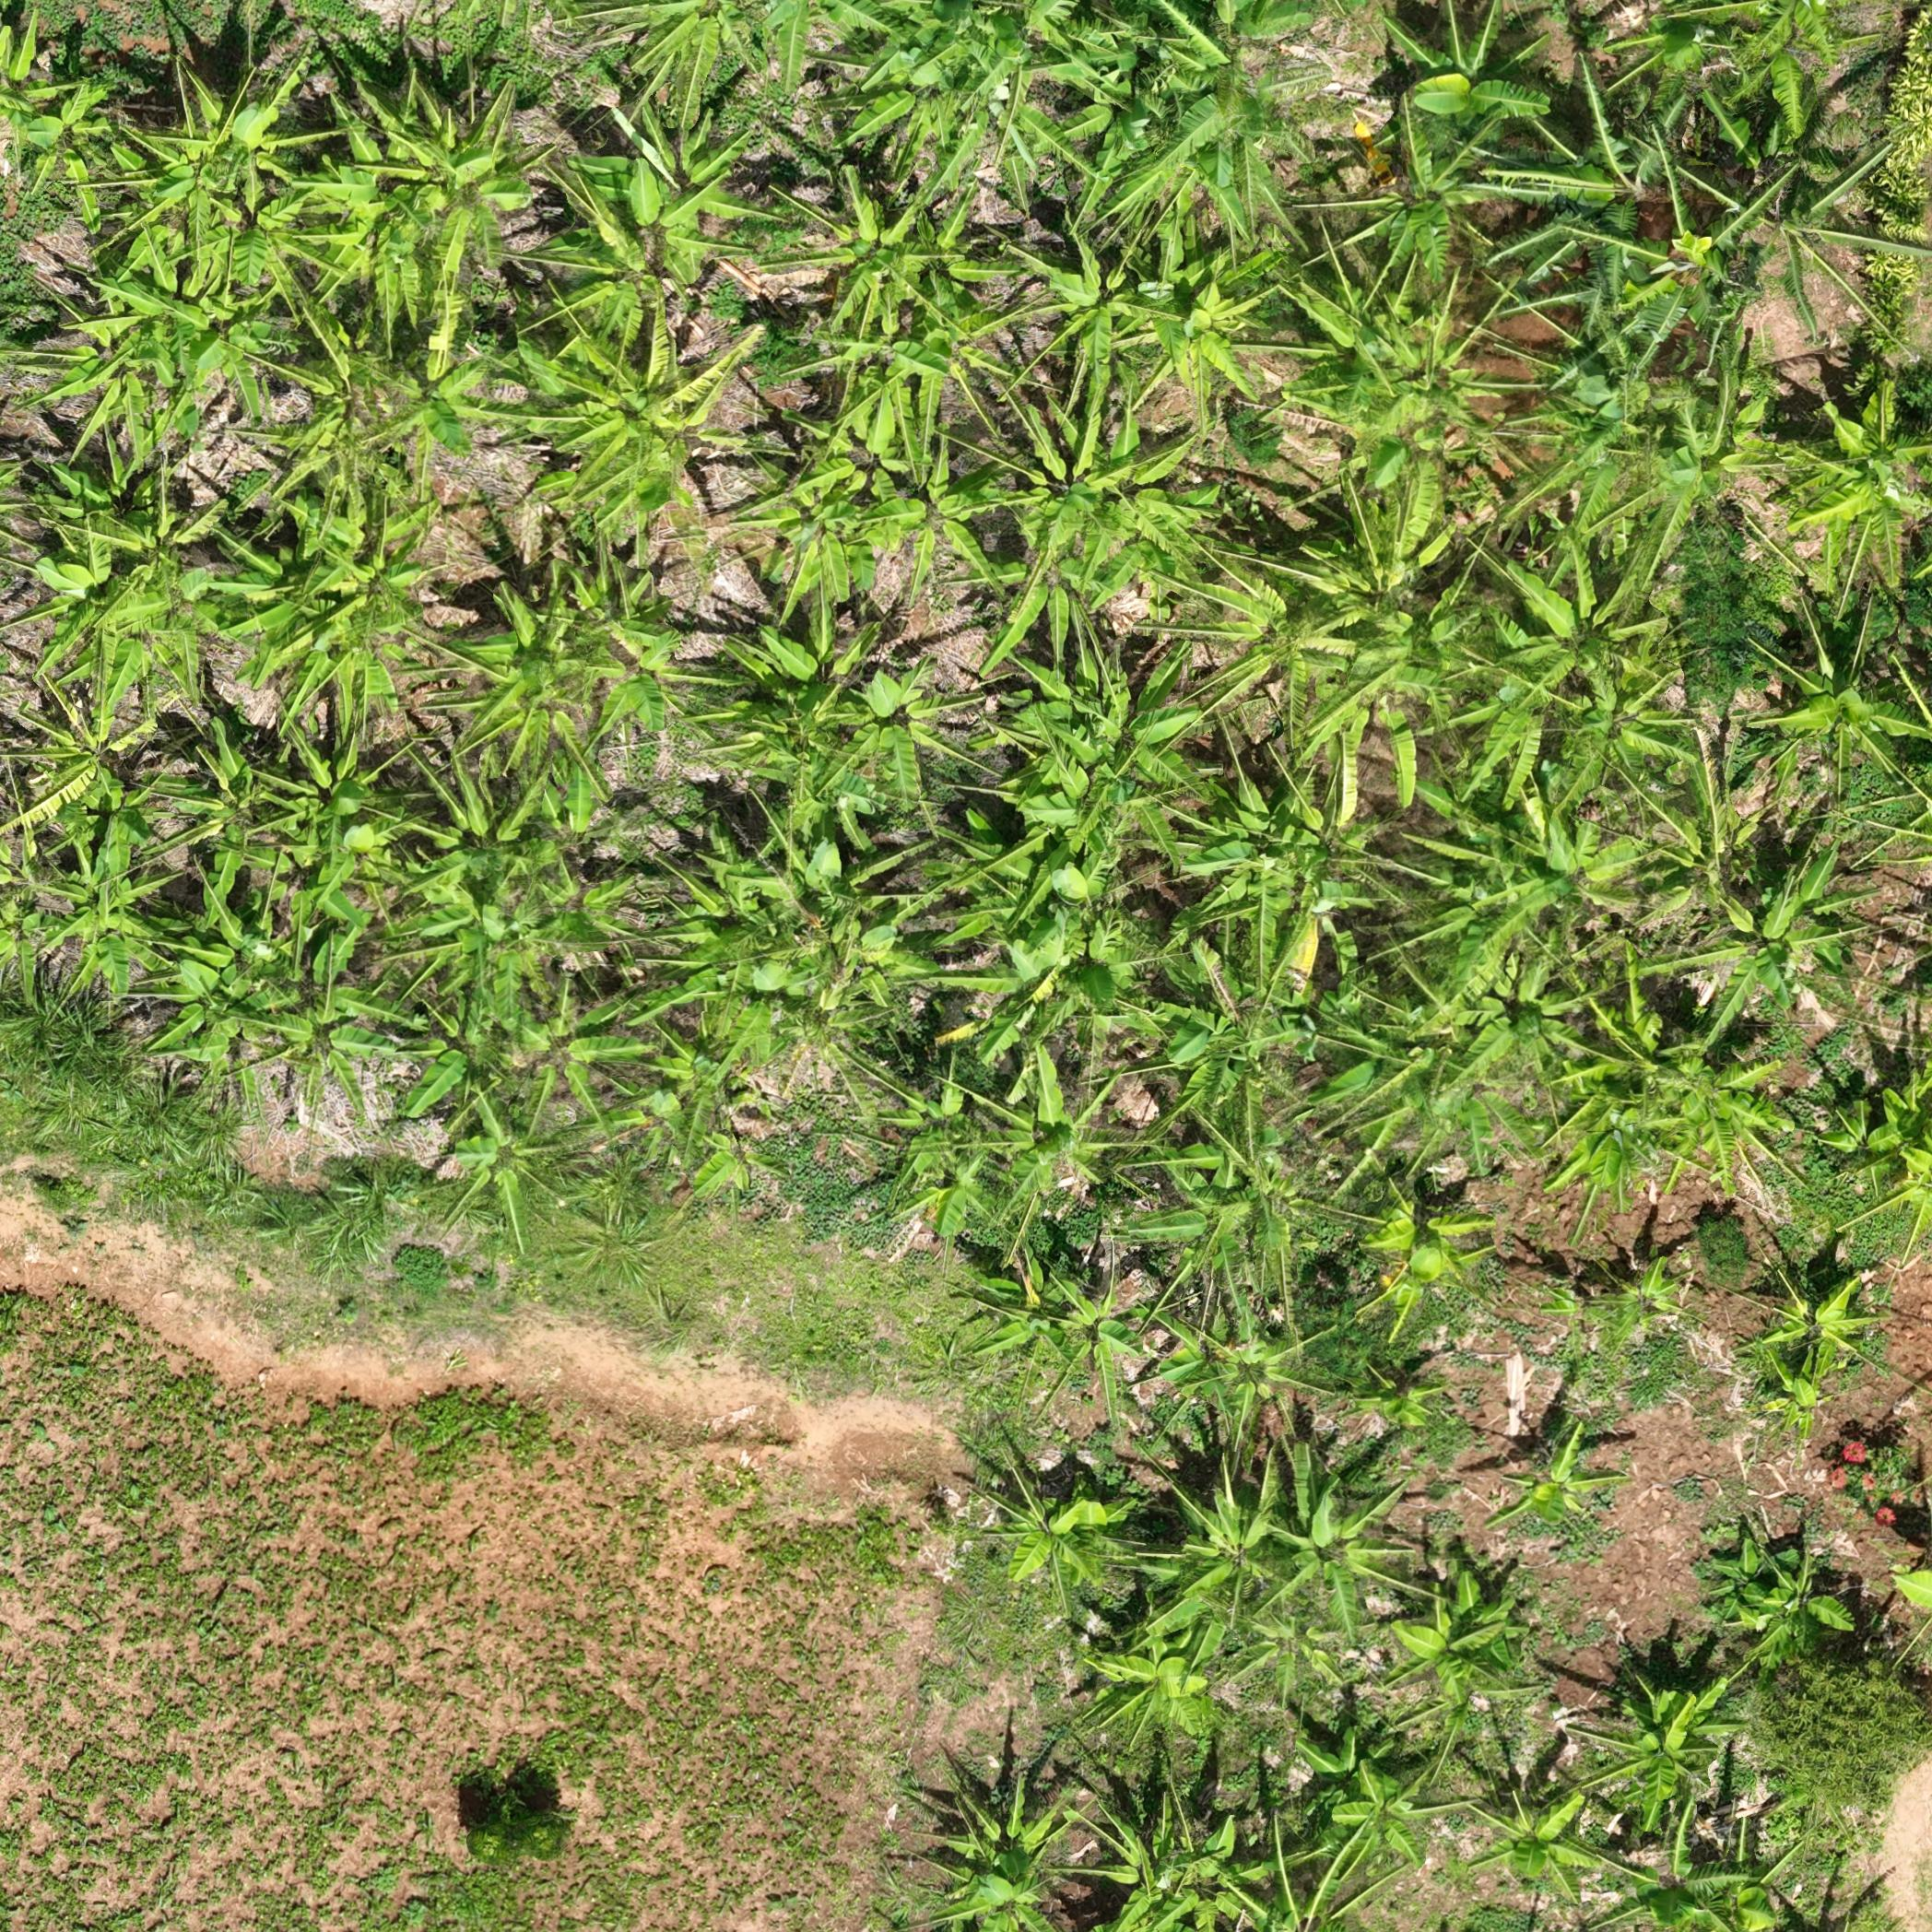Banana: (488, 318, 736, 548), (1332, 251, 1509, 511), (104, 97, 285, 333), (1035, 414, 1253, 605), (299, 85, 458, 324), (1543, 202, 1702, 432), (1134, 4, 1361, 163), (814, 9, 1067, 149), (377, 35, 541, 249), (1502, 338, 1684, 525), (763, 409, 925, 612), (579, 138, 775, 306), (1345, 971, 1530, 1148), (1040, 619, 1230, 793), (1267, 750, 1442, 932), (1127, 241, 1299, 416), (1697, 140, 1849, 336), (980, 628, 1120, 839), (1300, 464, 1463, 644), (1184, 761, 1309, 989), (1154, 961, 1325, 1125), (1592, 53, 1744, 237), (715, 612, 867, 794), (764, 830, 934, 993), (1208, 564, 1378, 725), (1012, 218, 1164, 393), (1481, 805, 1668, 943), (1509, 538, 1691, 679), (39, 271, 205, 421), (959, 909, 1132, 1053), (784, 143, 934, 308), (1645, 1008, 1785, 1184), (418, 879, 646, 984), (239, 566, 433, 688), (1047, 27, 1210, 172), (874, 432, 1014, 600), (269, 467, 428, 612), (1709, 881, 1879, 1014), (410, 754, 596, 869), (1766, 352, 1852, 598), (32, 433, 205, 556), (1805, 405, 1930, 573), (674, 823, 803, 984), (448, 616, 612, 741), (1132, 1157, 1293, 1284), (1534, 1097, 1688, 1228), (1651, 393, 1767, 564), (1350, 1191, 1504, 1320), (267, 704, 396, 853), (1403, 12, 1552, 142), (824, 667, 975, 793), (1568, 1001, 1720, 1125), (605, 5, 775, 113), (1433, 663, 1592, 778), (269, 954, 375, 1123), (1799, 644, 1928, 780), (1380, 92, 1493, 246), (1276, 1497, 1412, 1624), (34, 681, 150, 830), (617, 1007, 794, 1104), (442, 1102, 575, 1231), (886, 180, 1012, 315), (104, 566, 218, 711), (980, 1076, 1102, 1210), (1716, 2, 1835, 138), (494, 1000, 651, 1100), (182, 720, 288, 869), (1083, 1628, 1235, 1729), (805, 326, 996, 405), (361, 356, 527, 446), (582, 616, 704, 738), (1753, 633, 1851, 786), (1019, 1467, 1131, 1599), (934, 1780, 1088, 1875), (37, 53, 131, 209), (1412, 1592, 1523, 1723), (1545, 692, 1741, 766), (154, 955, 264, 1088), (1852, 1035, 1928, 1226), (258, 340, 396, 444), (1185, 1322, 1327, 1422), (295, 817, 432, 922), (872, 1138, 1017, 1231), (395, 991, 524, 1093), (1617, 1688, 1727, 1806), (202, 869, 308, 989), (1175, 1484, 1283, 1598), (925, 1852, 1086, 1927), (851, 1067, 971, 1162), (1058, 1272, 1141, 1403), (99, 745, 186, 869), (97, 856, 173, 996), (968, 1276, 1070, 1378), (1785, 1277, 1890, 1376), (1778, 1548, 1856, 1679), (1520, 1449, 1617, 1553), (1247, 1605, 1338, 1709), (1355, 1348, 1447, 1447), (1488, 1792, 1589, 1881), (1598, 1256, 1698, 1345), (1713, 1525, 1789, 1640), (1621, 1844, 1744, 1911), (1300, 1723, 1385, 1821), (1813, 1076, 1884, 1191), (683, 1125, 775, 1212), (1341, 1775, 1430, 1863), (1152, 1849, 1247, 1930), (1760, 1371, 1856, 1449), (1111, 1805, 1185, 1891), (1242, 1875, 1368, 1925), (1716, 1870, 1799, 1927)
